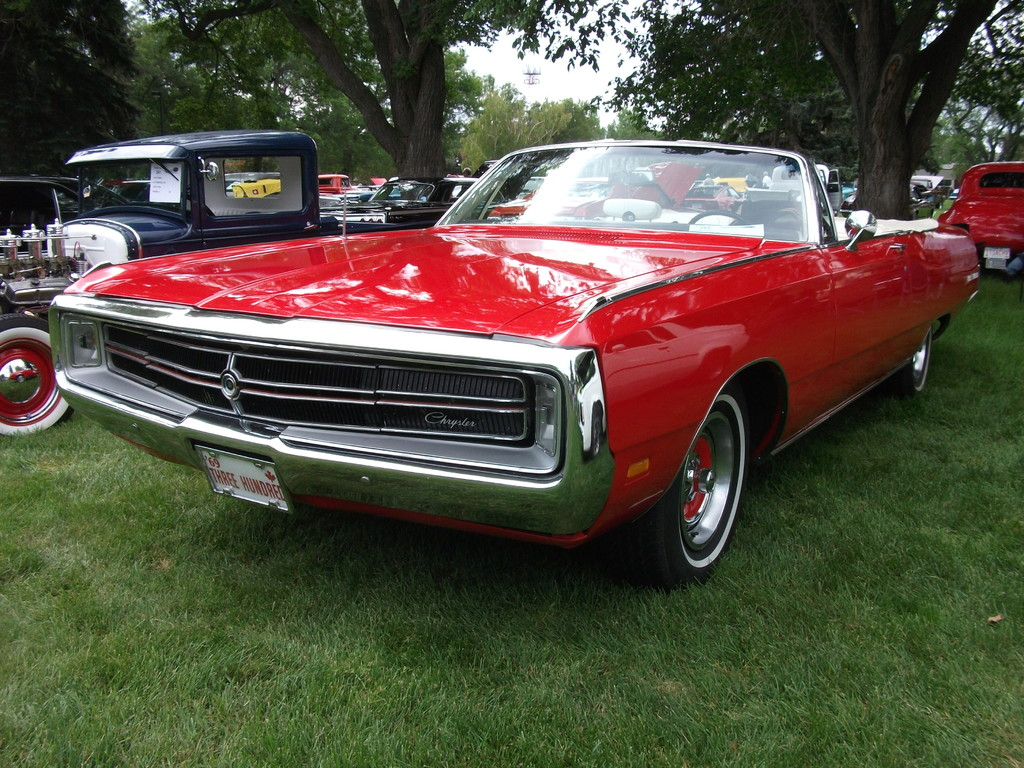mobil: (65, 123, 944, 588)
